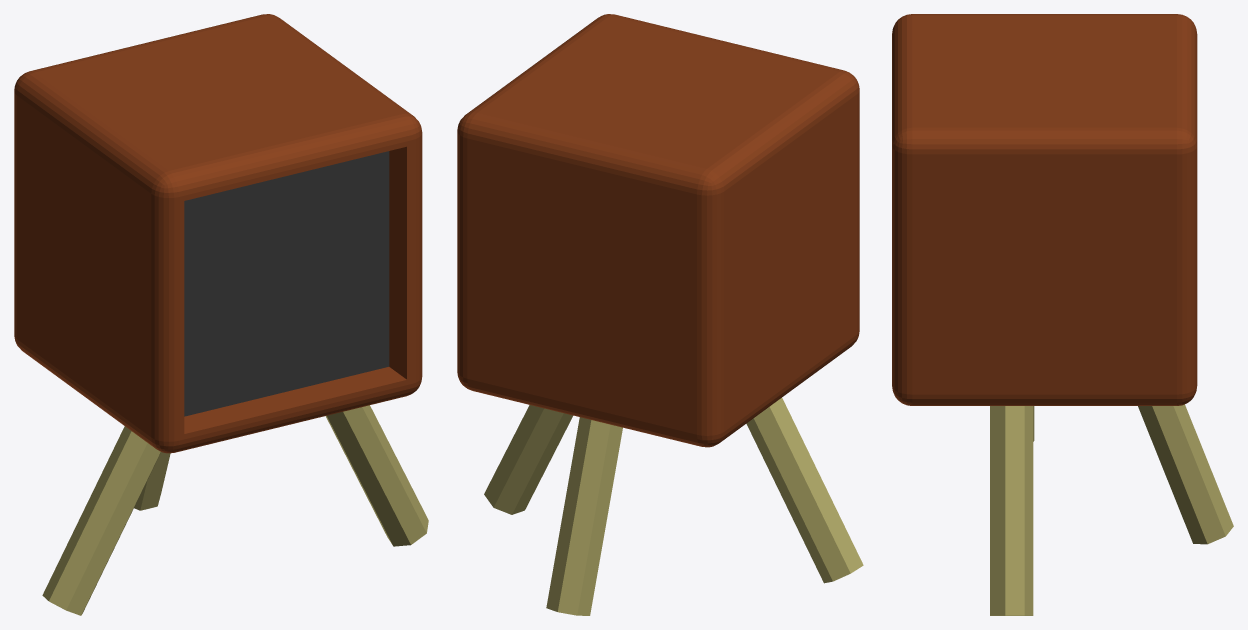
3 renders of one model, left to right at view 1: azimuth 30°, elevation 25°; view 2: azimuth 150°, elevation 25°; view 3: azimuth 270°, elevation 25°, orthographic.
Visible parts, largest first — view 1: TV, Cylinder.002, Cylinder.003, Cylinder.004; view 2: TV, Cylinder.004, Cylinder.002, Cylinder.003; view 3: TV, Cylinder.003, Cylinder.004.
Part boxes in pixels (x1,y1,x2,y2): TV: (14, 14, 422, 453); Cylinder.002: (42, 426, 160, 615); Cylinder.003: (325, 405, 428, 546); Cylinder.004: (134, 452, 170, 510); TV: (457, 14, 859, 447); Cylinder.004: (546, 417, 622, 615); Cylinder.002: (746, 398, 863, 583); Cylinder.003: (484, 405, 572, 514); TV: (892, 14, 1197, 405); Cylinder.003: (990, 406, 1033, 615); Cylinder.004: (1138, 404, 1233, 544).
Bounding box in the file's own units: 1.24 × 1.49 × 0.9858.
